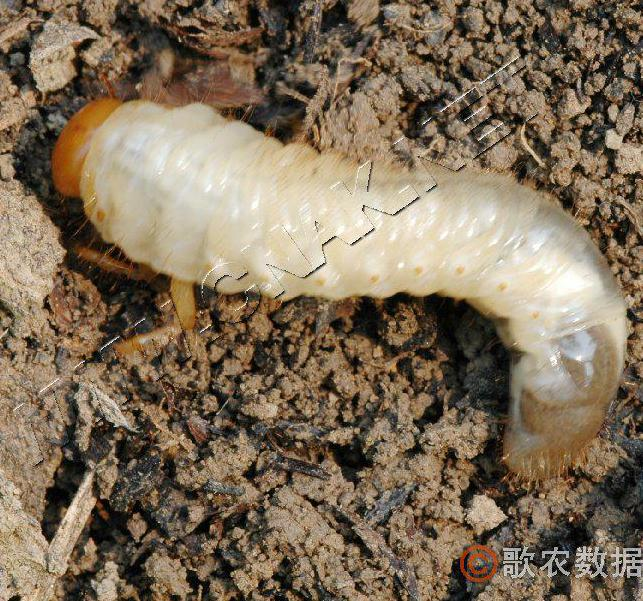grub: (48, 87, 624, 511)
